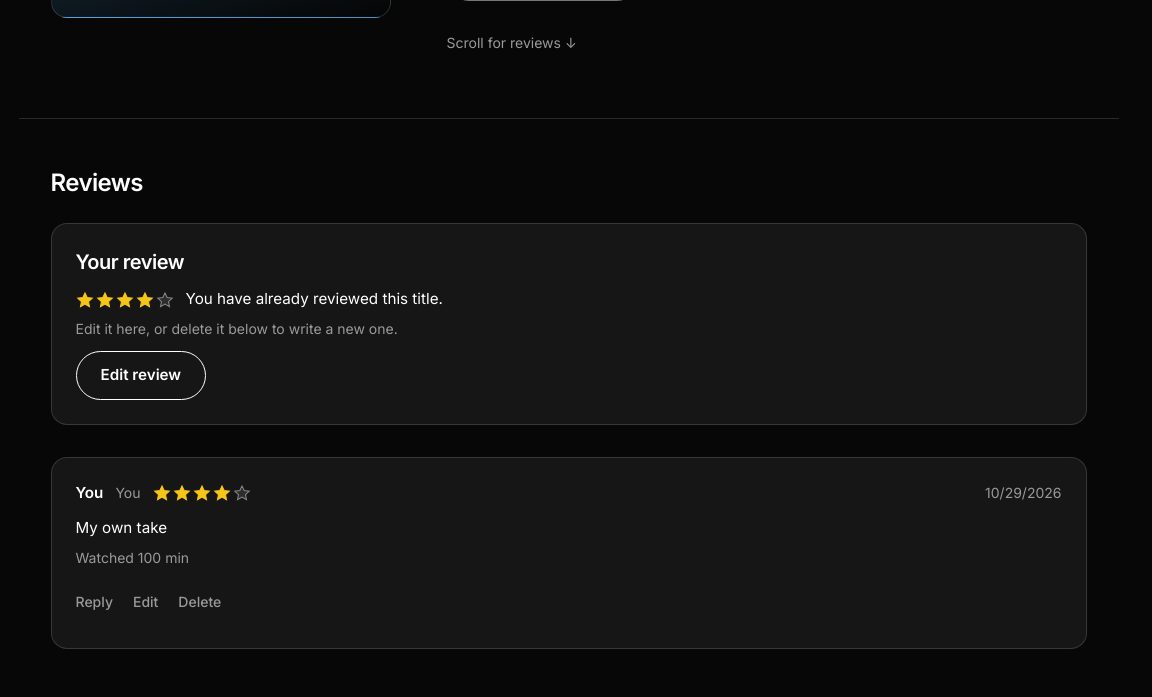
Test: TitleDetail when the reviews change › deleting your review lowers the count and brings the form back
The width and height of the screenshot is (1152, 697).
(page scrolled)
Expected: the text "My own take" is shown, [76, 518, 167, 537]
Expected: the text "You have already reviewed this title." is shown, [186, 288, 443, 311]
Click the button with aria-label "Delete review by You".
click(200, 602)  # box [178, 580, 221, 624]
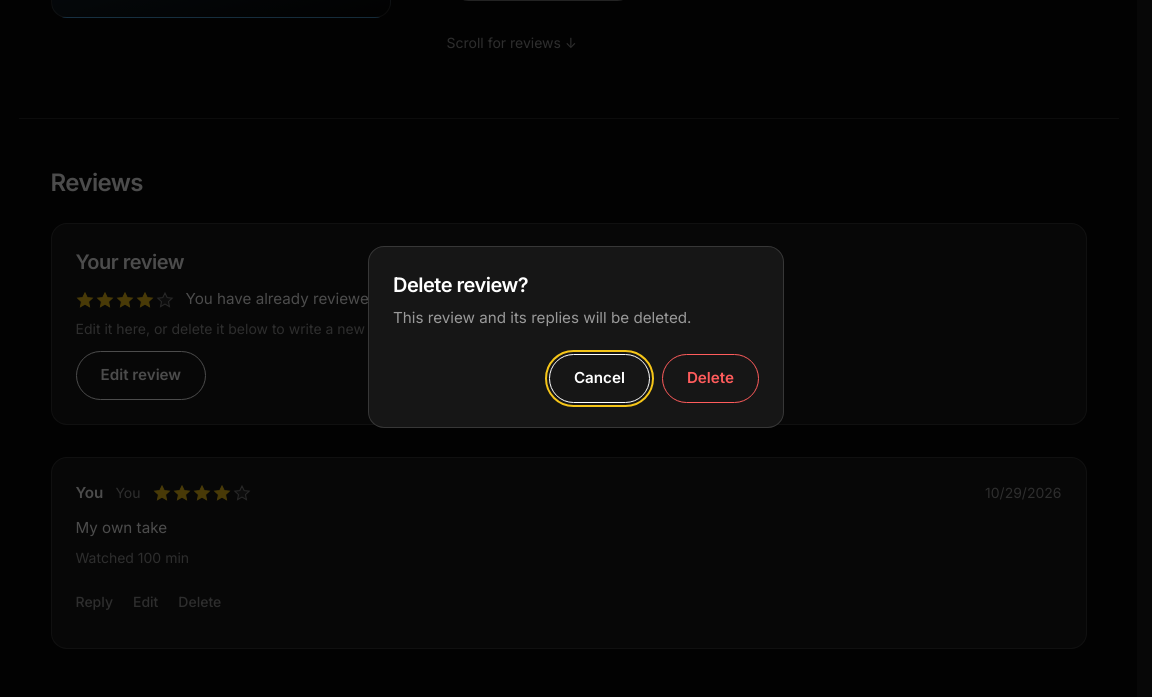
Click the button "Delete".
click(710, 378)  # box [662, 354, 759, 403]
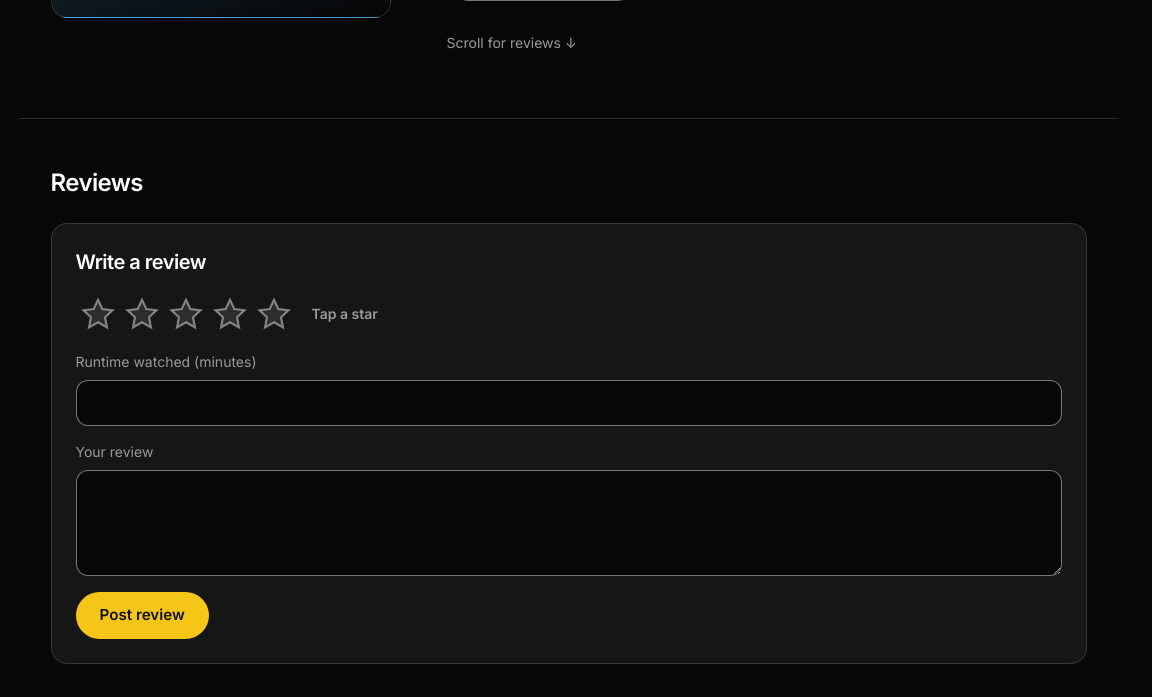
Expected: the text box labelled "Your review" is shown, [76, 470, 1062, 576]
